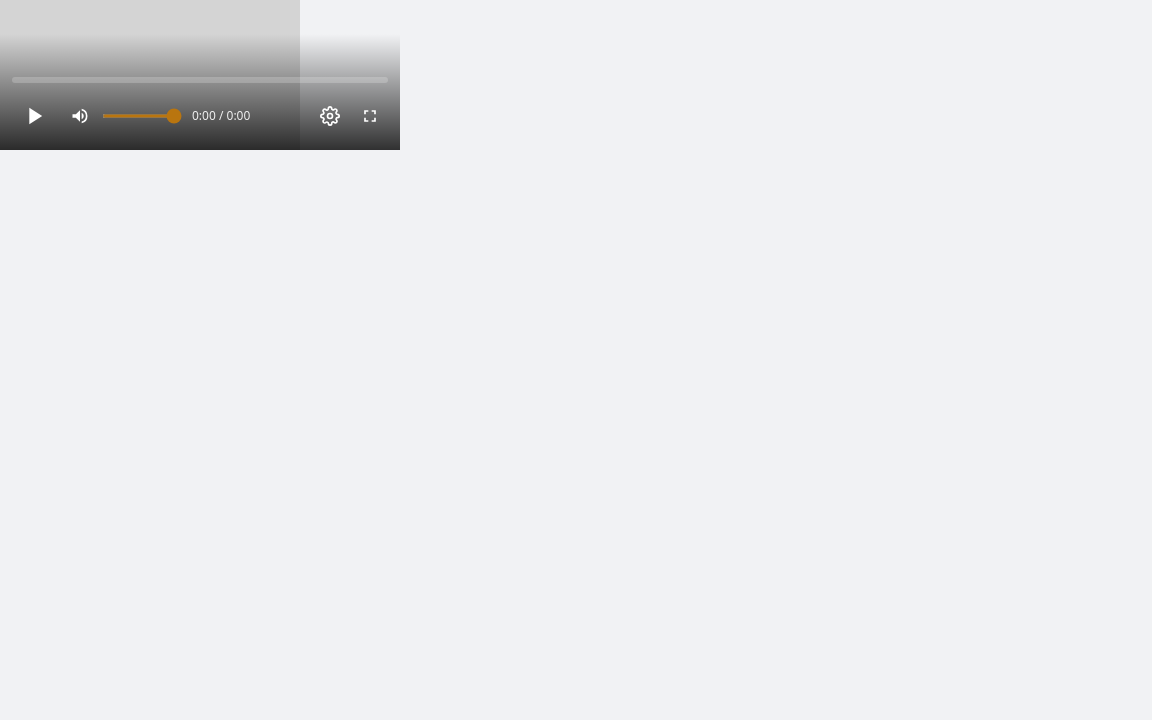
Scenario: PlayerControls › shortcuts help overlay › backdrop click dismisses the overlay
Step 1. Press ?
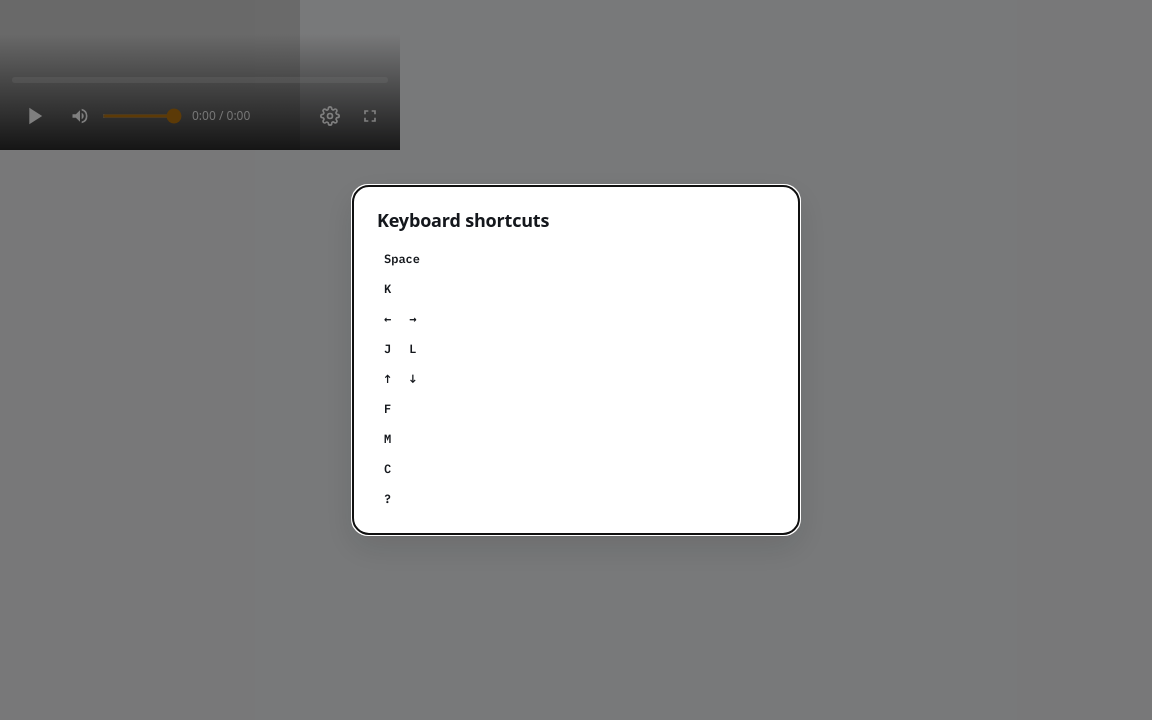
Step 2. Click the element that starts with "Keyboard shortcuts" → (69, 360), box x1=0 y1=0 x2=1151 y2=719
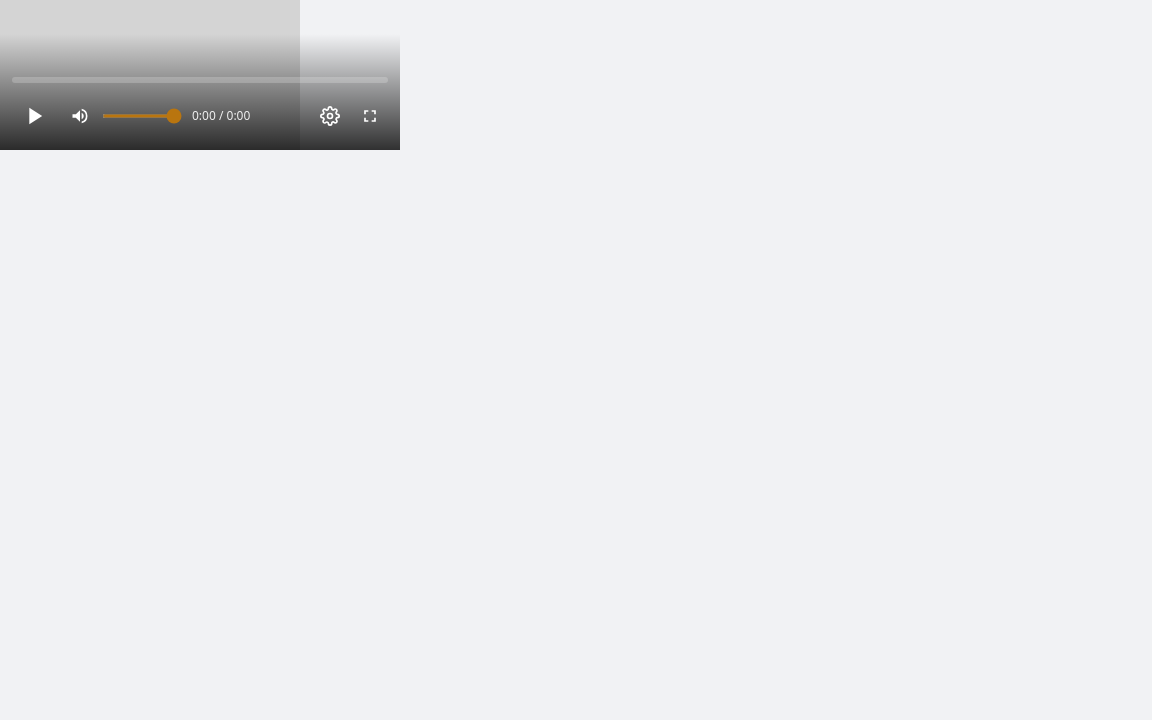
Result: the dialog is gone
